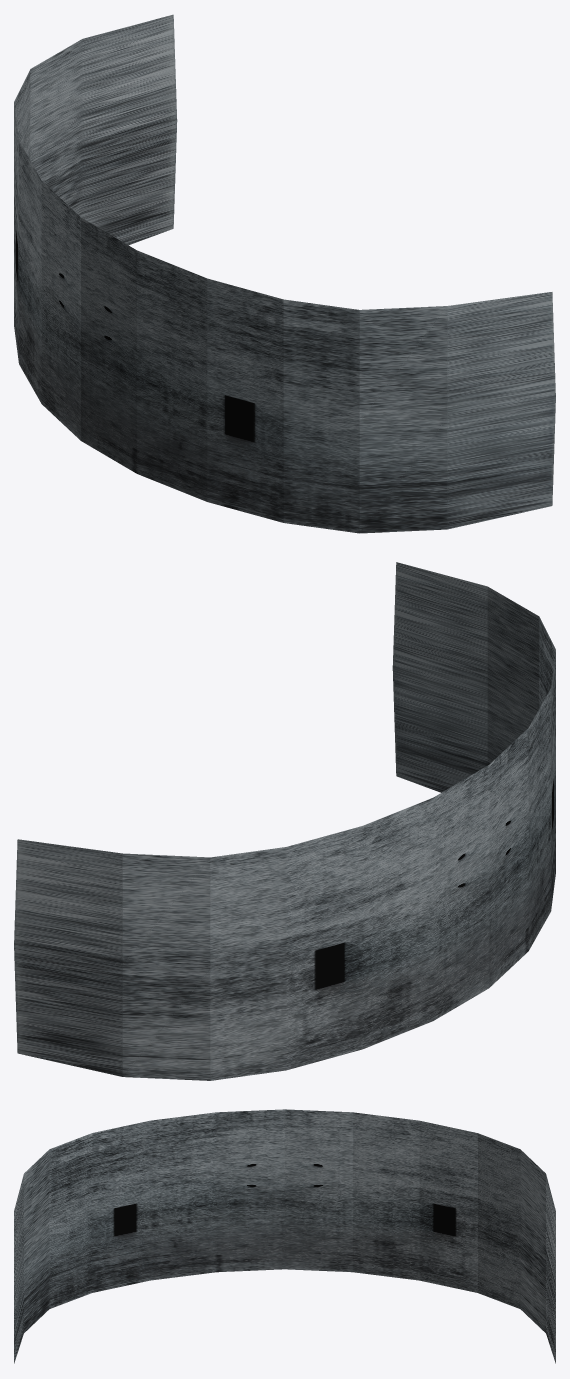
The model's file is minimalistic_modern_office_2.obj.
3 renders of one model, top to bottom at view 1: azimuth 30°, elevation 25°; view 2: azimuth 150°, elevation 25°; view 3: azimuth 270°, elevation 25°, orthographic. The views are drawn at different scales.
Bounding box in the file's own units: 10.85 × 8.11 × 24.91.
